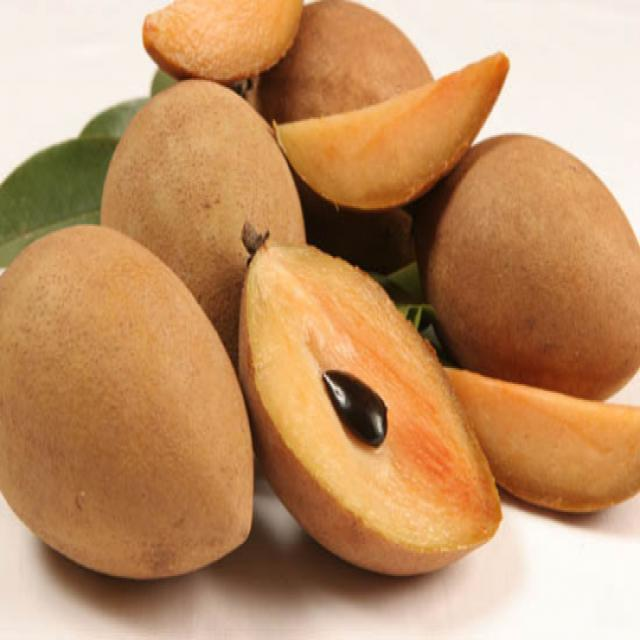chikkoo: (0, 215, 267, 590), (230, 226, 498, 599), (422, 121, 640, 423), (407, 309, 640, 547), (114, 90, 322, 356), (268, 78, 531, 219), (128, 0, 328, 119), (280, 21, 456, 155)
